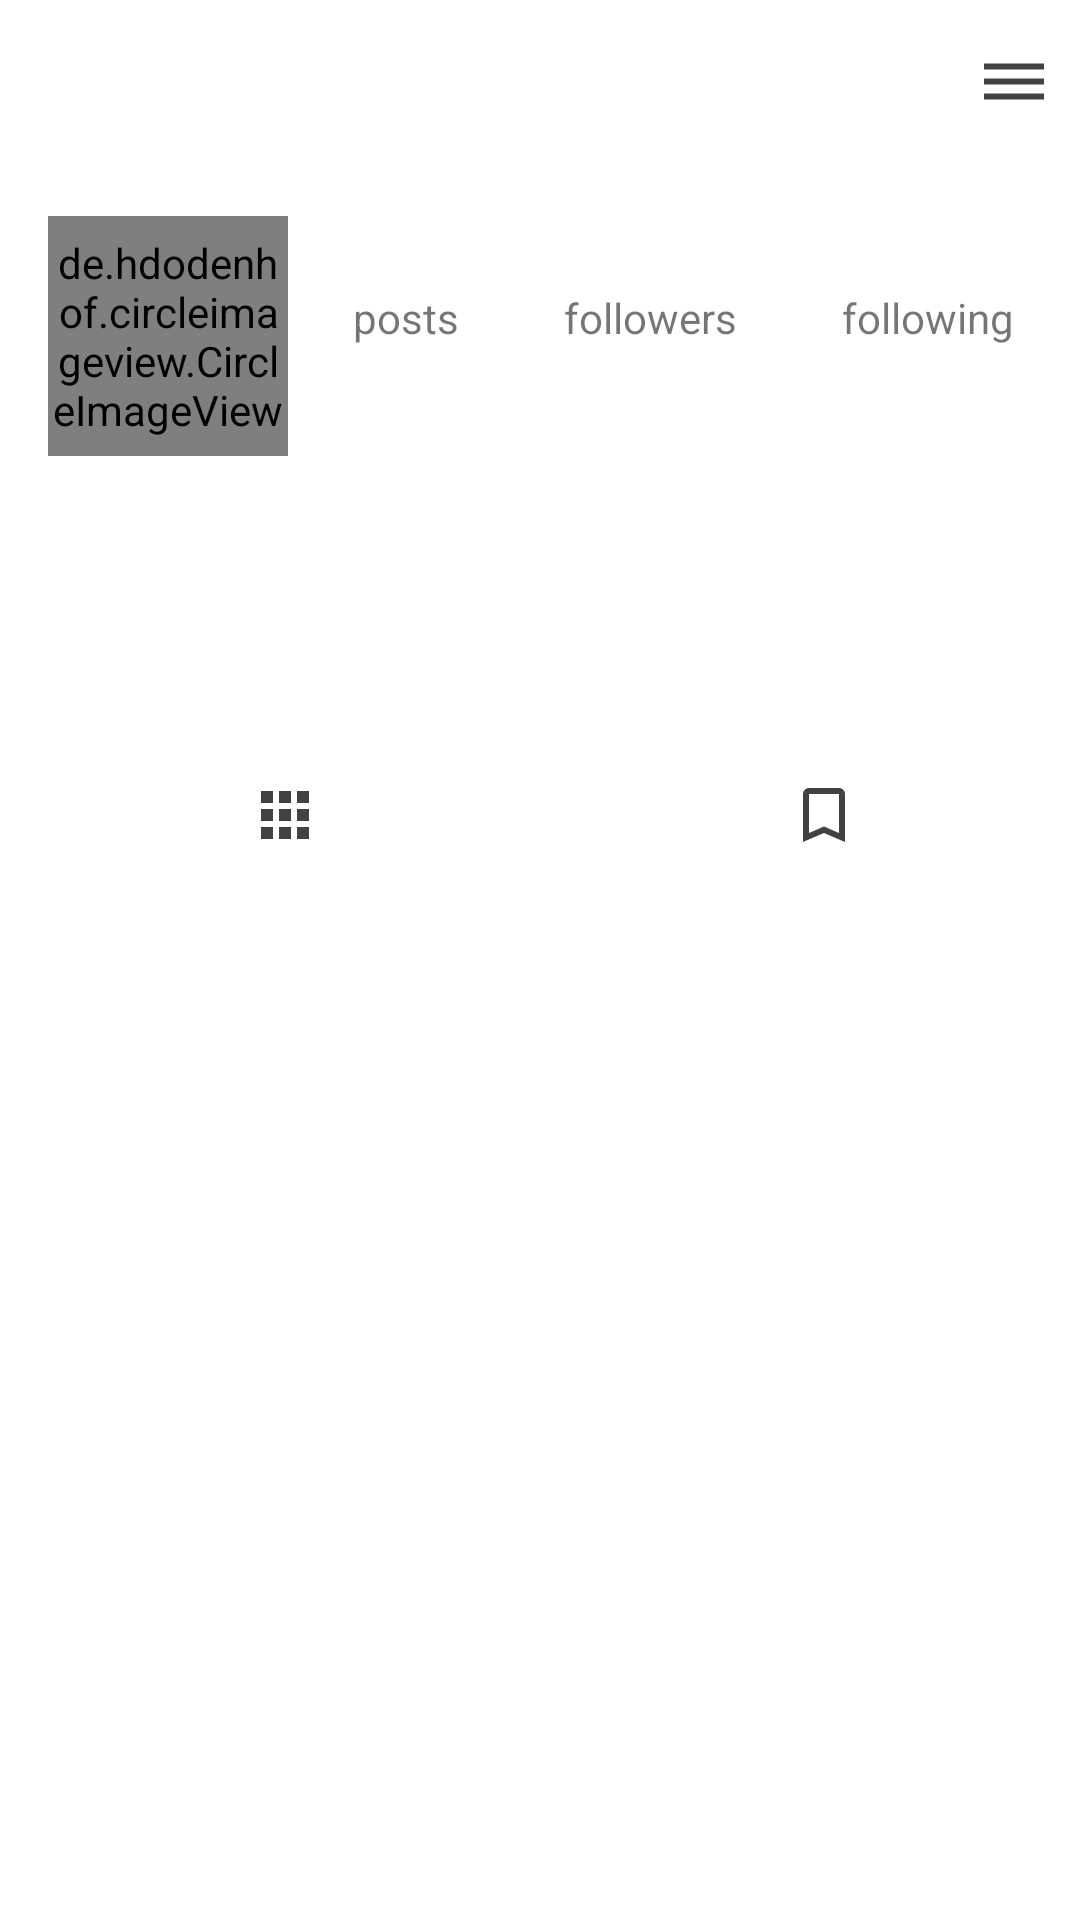

Where to tap for icons on this 1080w x 1920h app screen, as [x,y]:
grid: [285,815]
options: [1014,81]
save: [824,815]
